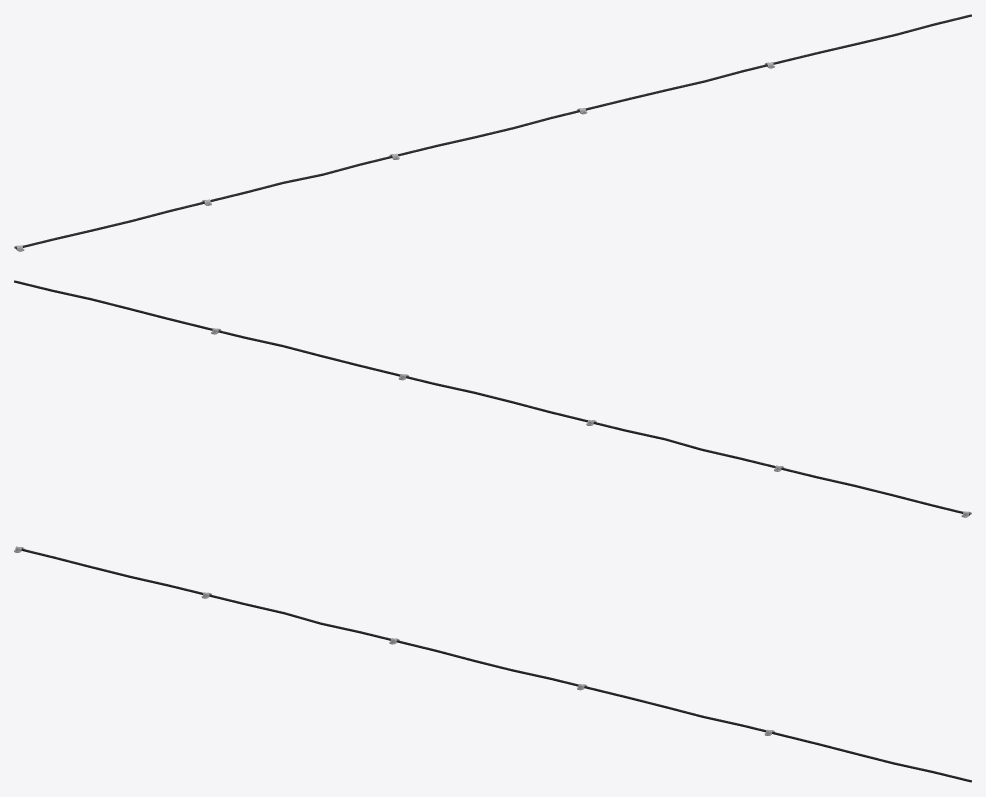
The model's file is Cable_250cm.fbx.
3 renders of one model, top to bottom at view 1: azimuth 30°, elevation 25°; view 2: azimuth 150°, elevation 25°; view 3: azimuth 330°, elevation 25°, orthographic.
Visible parts, largest first — view 1: Cable_250cm; view 2: Cable_250cm; view 3: Cable_250cm.
Part boxes in pixels (x1,y1,x2,y2): Cable_250cm: (14, 14, 971, 251); Cable_250cm: (14, 280, 971, 517); Cable_250cm: (14, 546, 971, 782).
Bounding box in the file's own units: 250 × 0.8 × 2.92.
